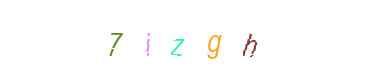7: (137, 0, 217, 80)
G: (151, 0, 231, 80)
H: (174, 0, 254, 80)
I: (146, 0, 226, 80)
Z: (147, 0, 227, 80)
